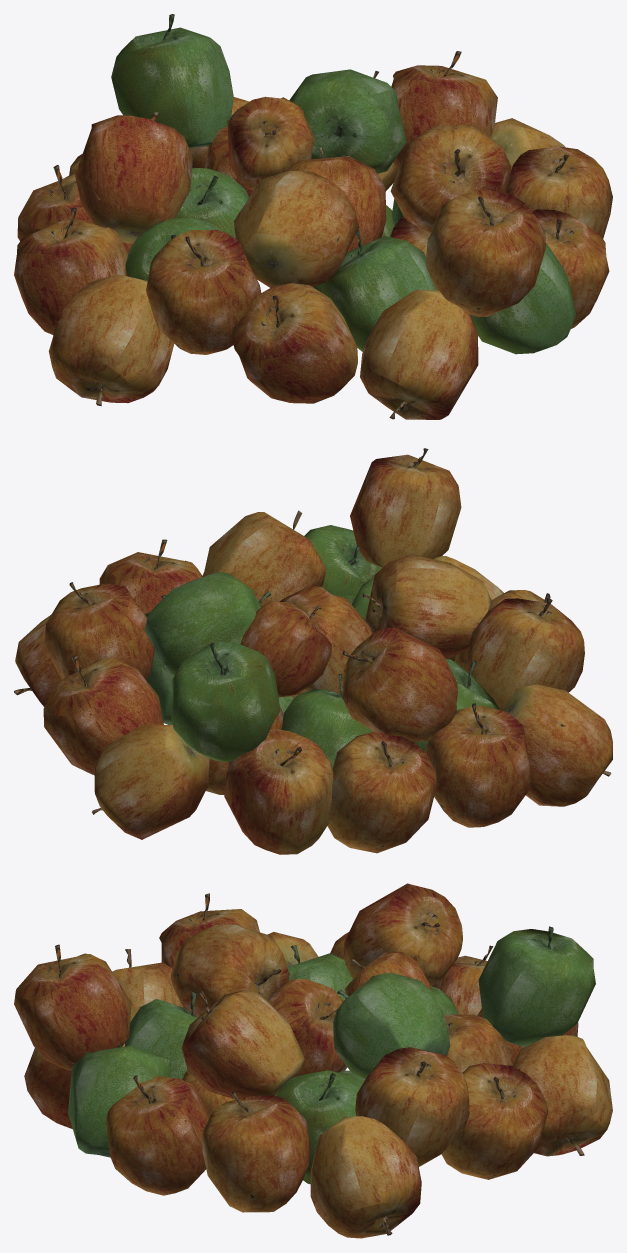
Rendered from Apple_Mix_Bunch.glb.
3 views of the same model, one above another, from view 1: azimuth 30°, elevation 25°; view 2: azimuth 150°, elevation 25°; view 3: azimuth 270°, elevation 25° (orthographic). The views are drawn at different scales.
Visible parts, largest first — view 1: SM_Apple_Mix_Bunch; view 2: SM_Apple_Mix_Bunch; view 3: SM_Apple_Mix_Bunch.
Boxes of the visible parts, x1,y1,x2,y2 form: SM_Apple_Mix_Bunch: (14, 14, 612, 419); SM_Apple_Mix_Bunch: (14, 448, 612, 854); SM_Apple_Mix_Bunch: (14, 883, 612, 1238).
Size of the model in its own units: 0.6824 by 0.2702 by 0.6778.
1 material, 1 textured.
